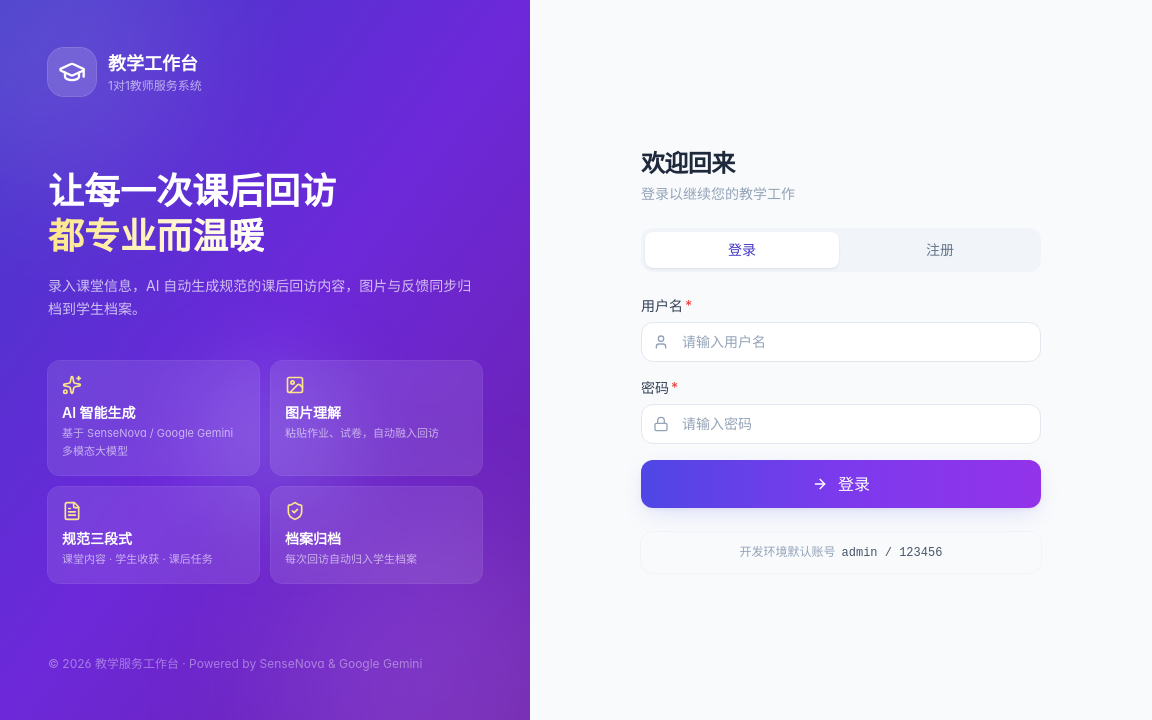
Test: 登录页 · 注册校验 › 密码短于 6 位时阻止提交
Click the button "注册".
click(940, 250)  # box [843, 232, 1037, 268]
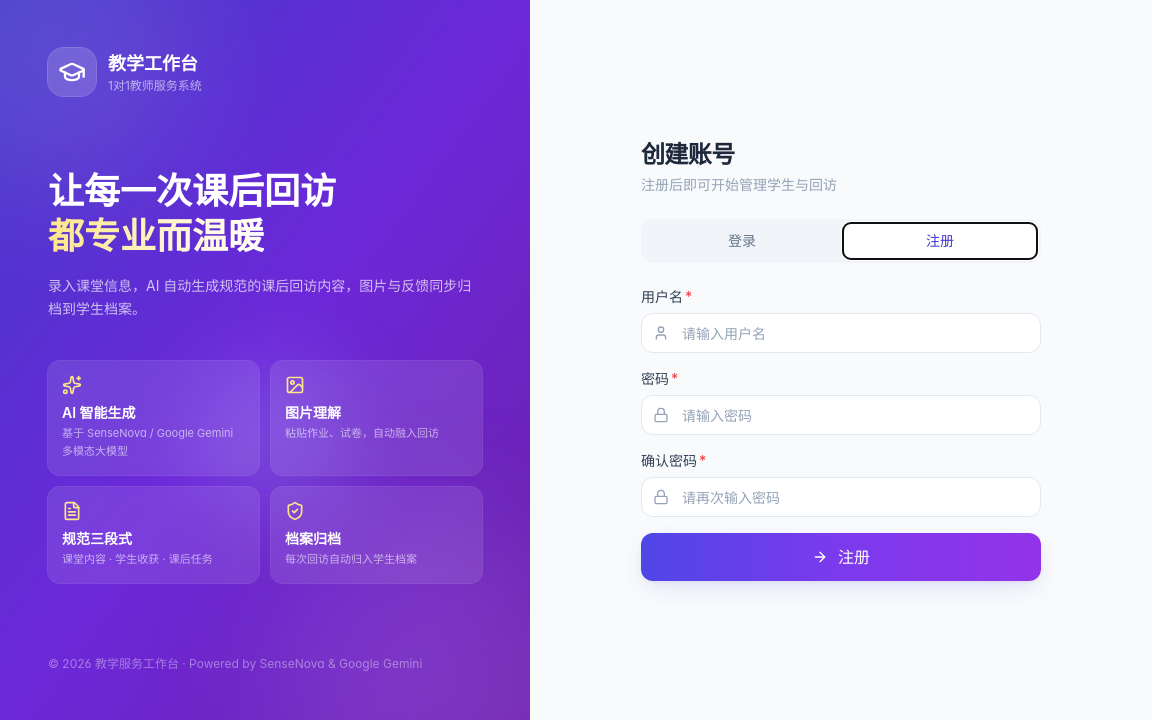
Type "newuser" into the field labelled "用户名*".
click(841, 333); type("newuser")  # box [641, 313, 1041, 353]
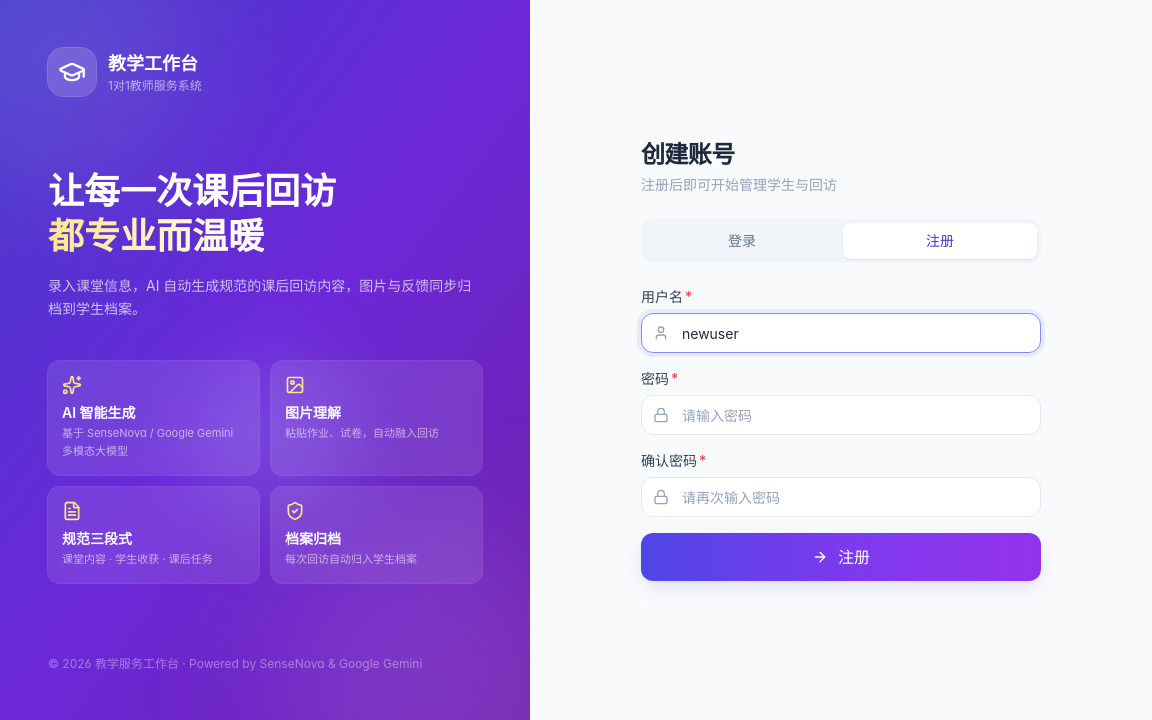
Type "123" into the password field labelled "密码*".
click(841, 415); type("123")  # box [641, 395, 1041, 435]
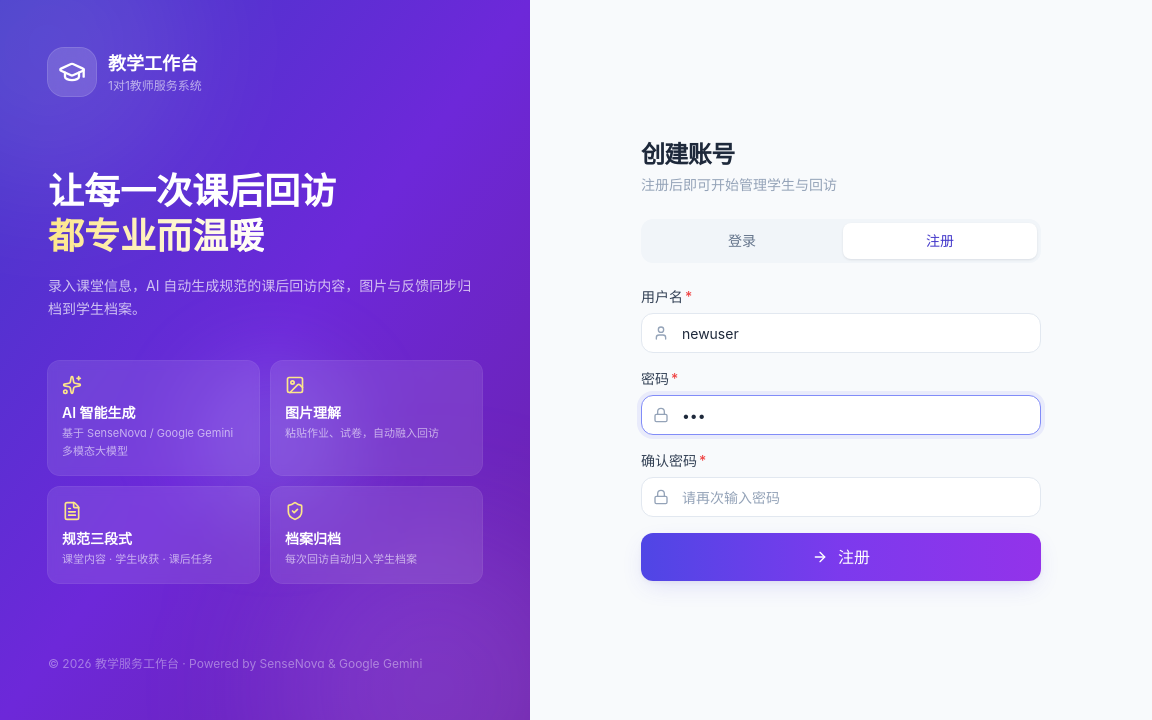
Type "123" into the password field labelled "确认密码*".
click(841, 497); type("123")  # box [641, 477, 1041, 517]
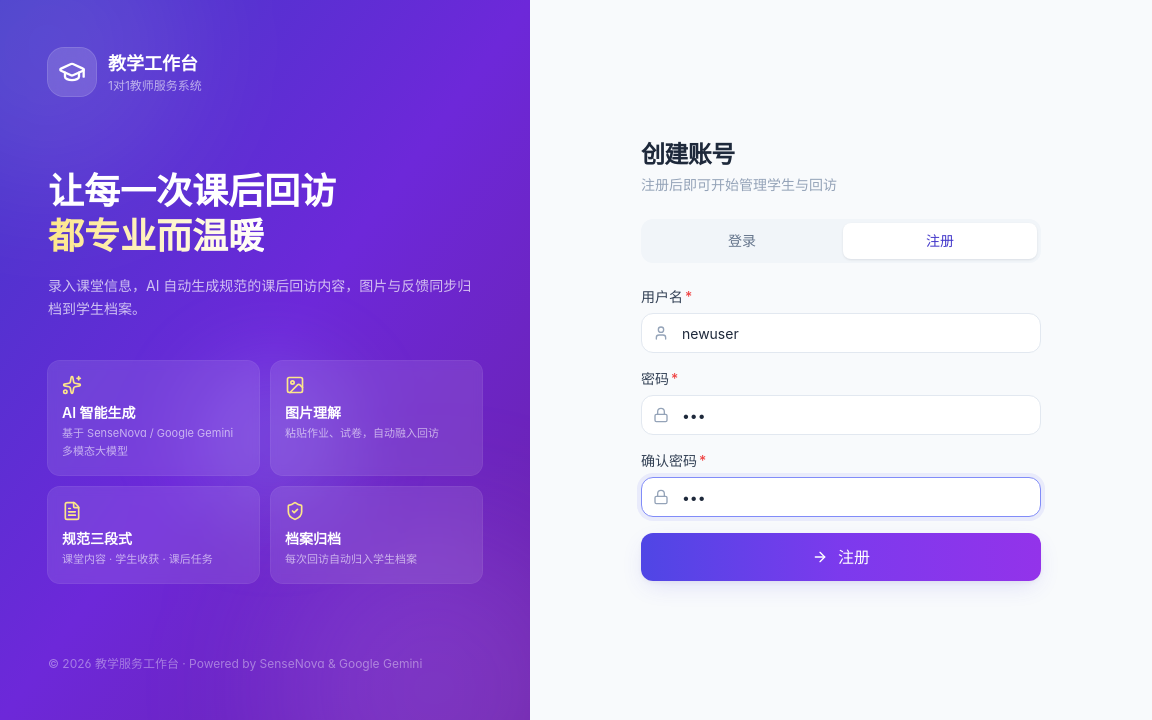
Click the submit button.
click(841, 557)  # box [641, 533, 1041, 581]
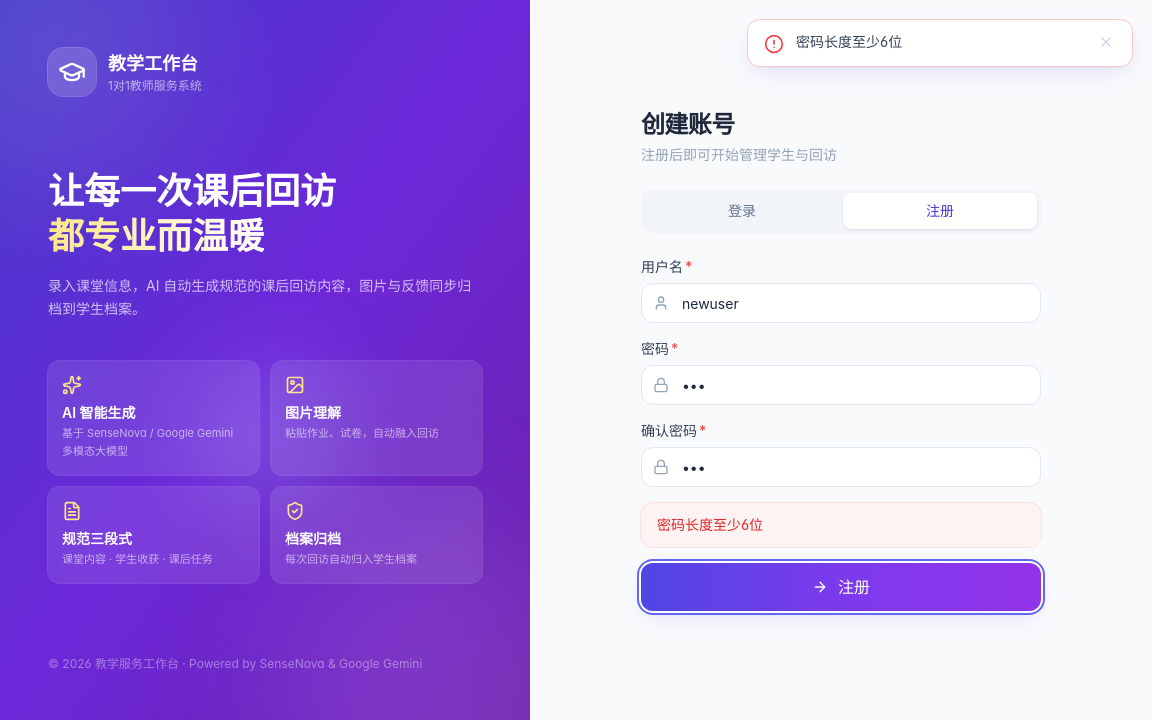
Check: the text "密码长度至少6位" below "确认密码" is shown, box [657, 516, 763, 533]
